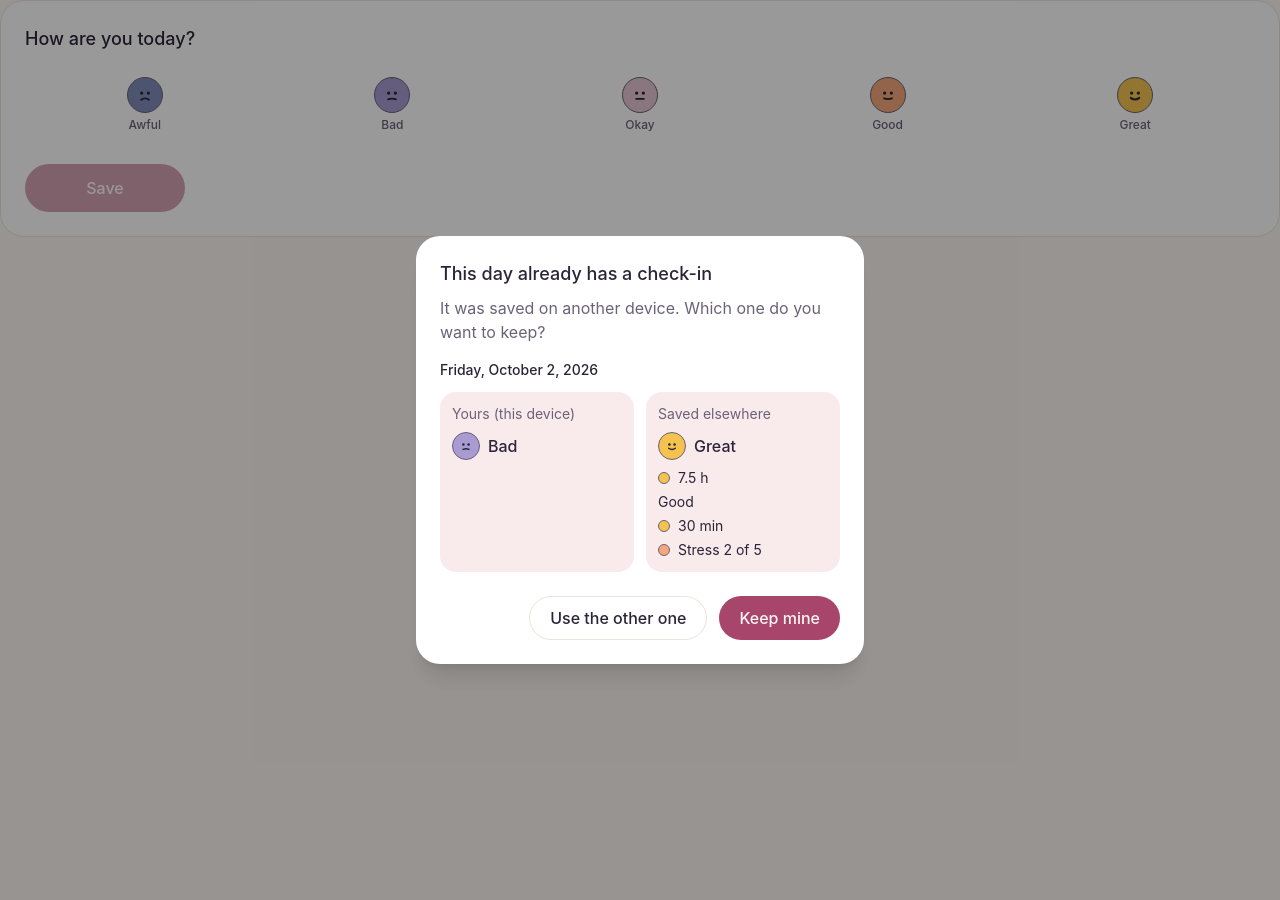
Test: CheckInCard › a copy that meets another device's check-in: the conflict dialog (decision 209) › both versions with the day; the copy stays until the person chooses; Use the other one shows theirs
The width and height of the screenshot is (1280, 900).
Expected: the dialog with test id "checkin-conflict-dialog" shows "This day already has a check-in", left=440, top=263, right=712, bottom=284
Expected: the text with test id "checkin-conflict-date" reads "Friday, October 2, 2026", left=440, top=361, right=598, bottom=378
Click the button with test id "checkin-conflict-use-other": (618, 618) left=529, top=596, right=707, bottom=640
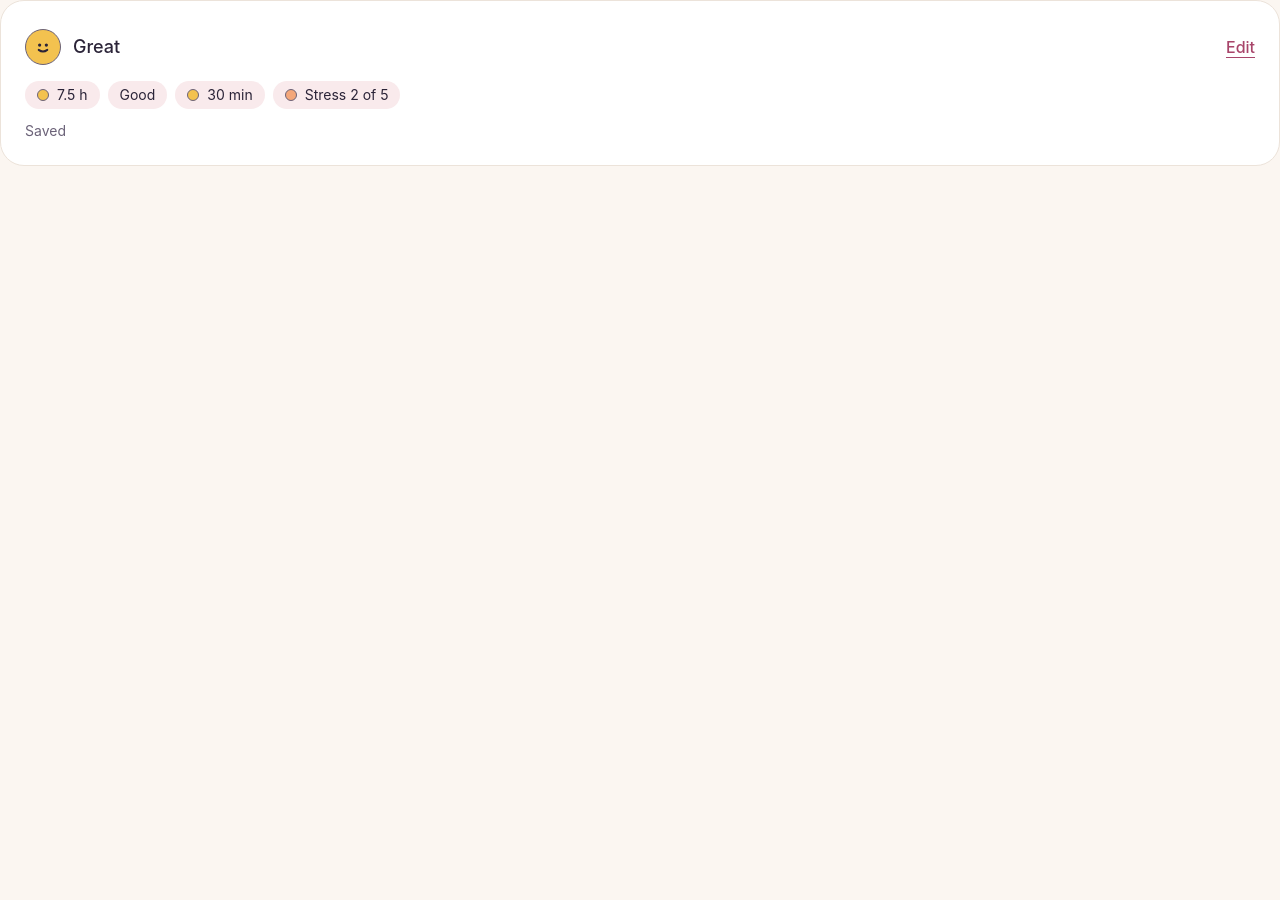
Now the dialog with test id "checkin-conflict-dialog" is gone
Now the element with test id "checkin-summary" shows "Great", box left=73, top=36, right=120, bottom=57
